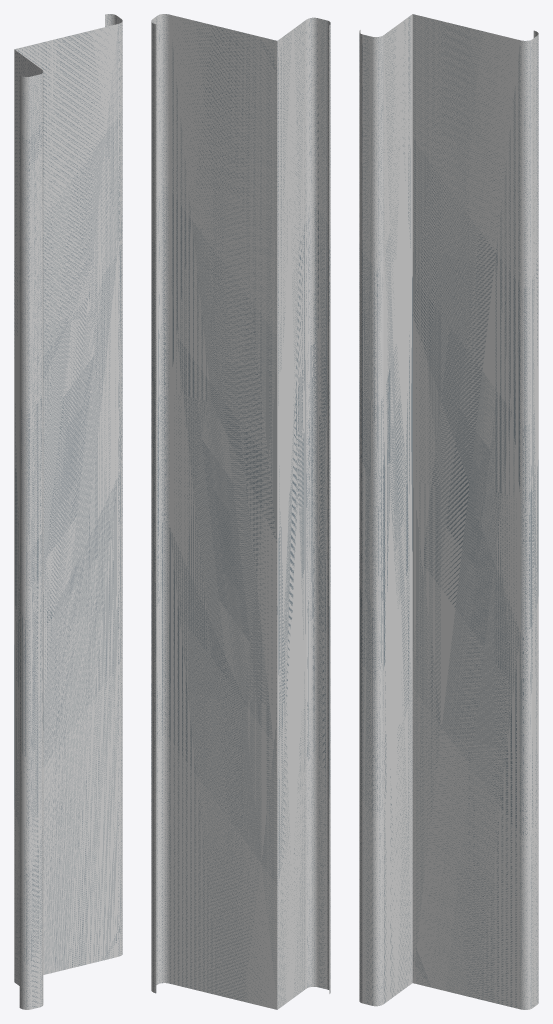
The model's file is PW_CornerFixElem_os_T2_035x060x010x400.dae.
3 renders of one model, left to right at view 1: azimuth 30°, elevation 25°; view 2: azimuth 150°, elevation 25°; view 3: azimuth 330°, elevation 25°, orthographic. The views are drawn at different scales.
Parts seen in each view (by area): view 1: group_0; view 2: group_0; view 3: group_0.
Boxes of the visible parts, bbox=[...] form: group_0: bbox=[14, 14, 122, 1009]; group_0: bbox=[151, 14, 330, 1009]; group_0: bbox=[359, 14, 538, 1009].
Size of the model in its own units: 23.62 by 13.78 by 157.
